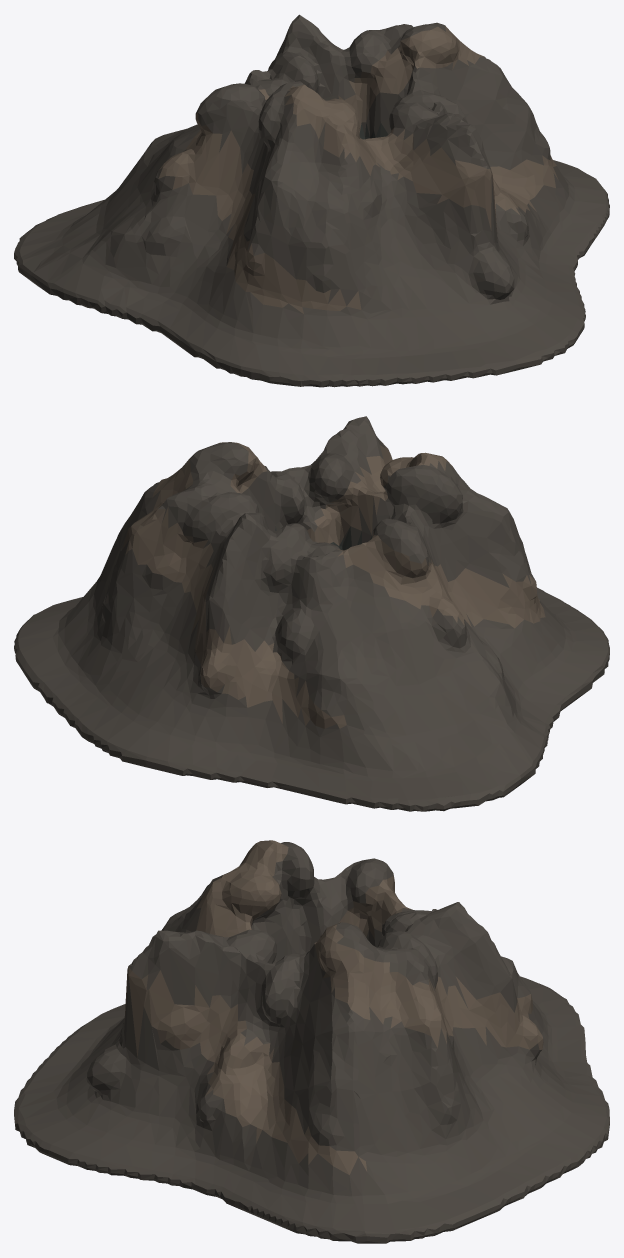
The model's file is spatter-cone.glb.
3 renders of one model, top to bottom at view 1: azimuth 30°, elevation 25°; view 2: azimuth 150°, elevation 25°; view 3: azimuth 270°, elevation 25°, orthographic. The views are drawn at different scales.
Parts seen in each view (by area): view 1: integral-welded-spatter-mound-and-vent; view 2: integral-welded-spatter-mound-and-vent; view 3: integral-welded-spatter-mound-and-vent.
Part boxes in pixels (left/top/right/bottom): integral-welded-spatter-mound-and-vent: left=14, top=14, right=609, bottom=387; integral-welded-spatter-mound-and-vent: left=14, top=416, right=609, bottom=811; integral-welded-spatter-mound-and-vent: left=14, top=840, right=609, bottom=1243.
Size of the model in its own units: 7.92 by 3.16 by 7.47.
